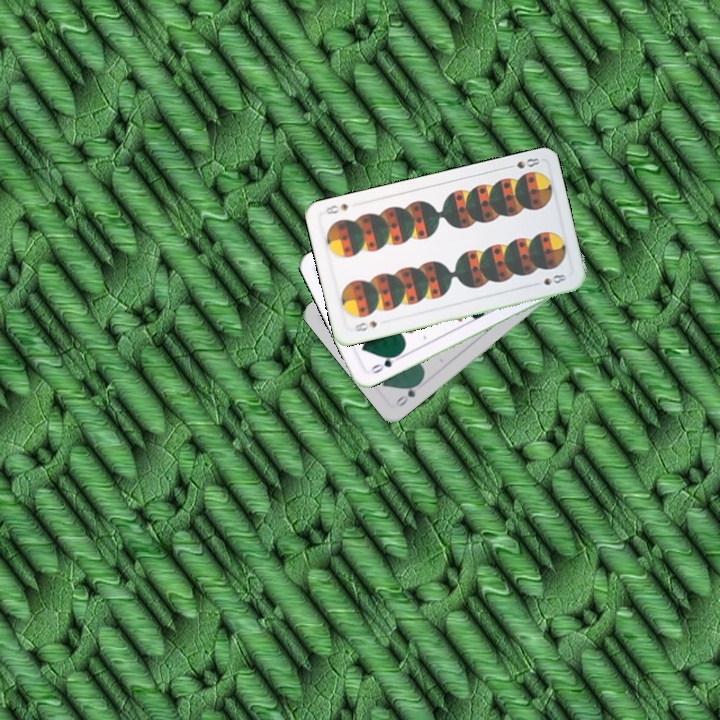GO: (392, 377, 424, 409), (365, 350, 404, 376)
S8: (502, 154, 542, 171), (351, 317, 379, 334)
